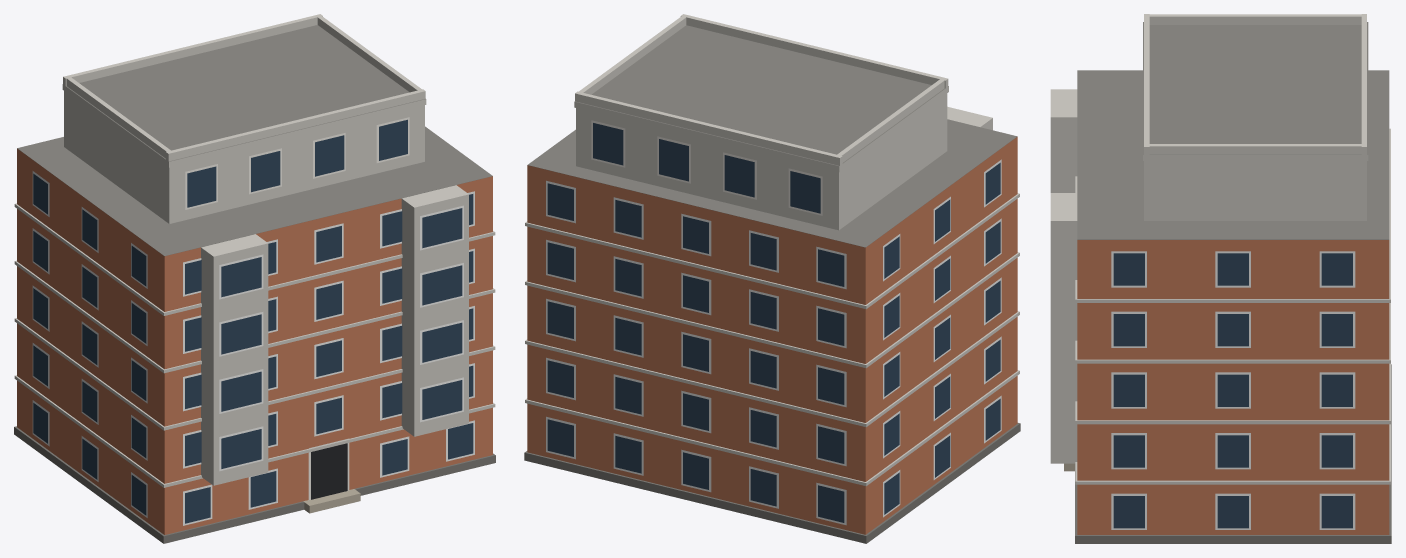
The model's file is immeuble_annees30.glb.
3 renders of one model, left to right at view 1: azimuth 30°, elevation 25°; view 2: azimuth 150°, elevation 25°; view 3: azimuth 270°, elevation 25°, orthographic. The views are drawn at different scales.
Visible parts, largest first — view 1: immeuble_annees30; view 2: immeuble_annees30; view 3: immeuble_annees30.
Part boxes in pixels (x1,y1,x2,y2): immeuble_annees30: (14,14,495,543); immeuble_annees30: (524,14,1020,543); immeuble_annees30: (1050,14,1391,543).
Size of the model in its own units: 18.2 by 18.7 by 15.35.
1 material, 1 textured.
